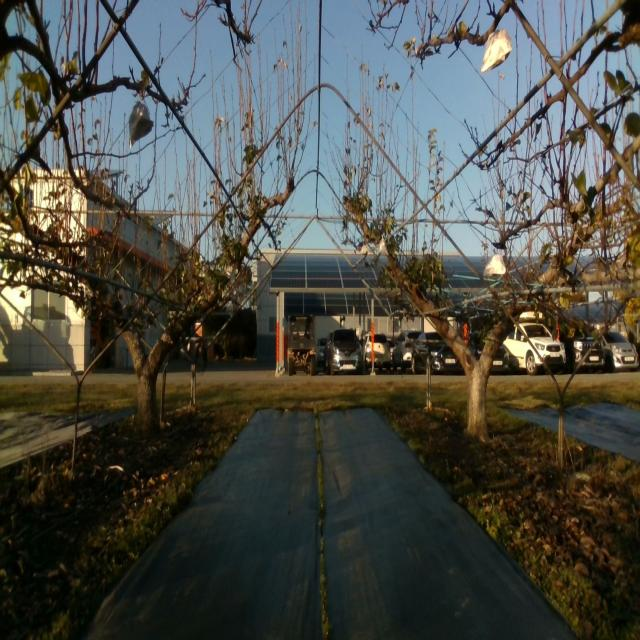pearbags: (481, 28, 511, 74), (128, 100, 154, 147), (484, 249, 506, 277)
